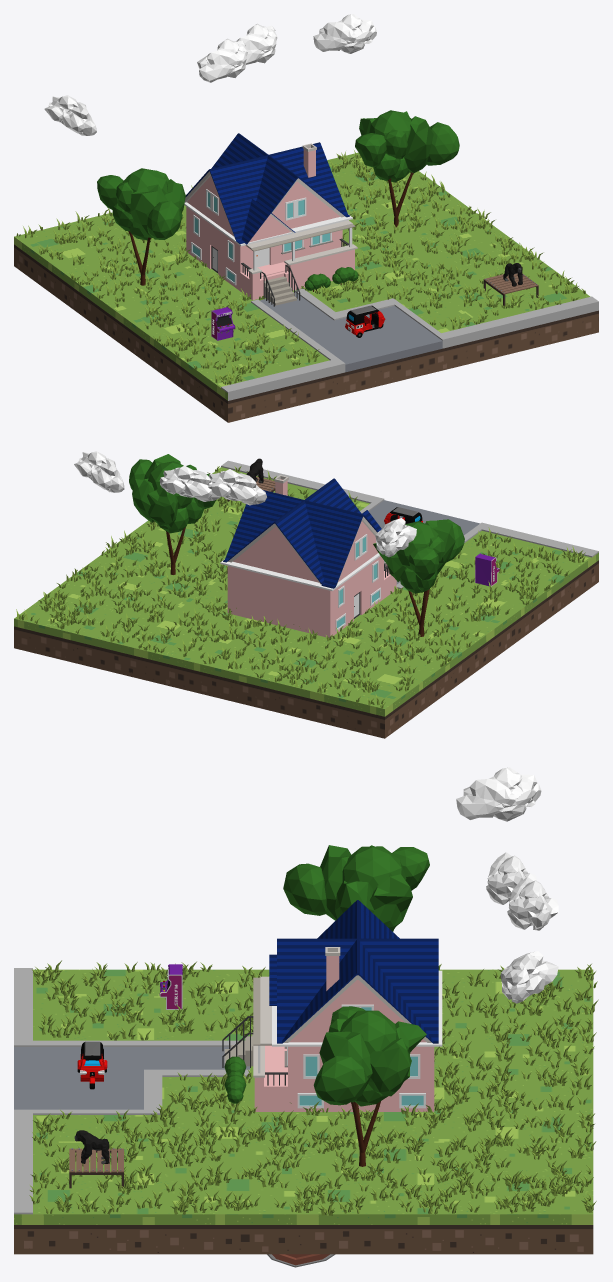
The picture shows the model from 3 angles, top to bottom: view 1: azimuth 30°, elevation 25°; view 2: azimuth 150°, elevation 25°; view 3: azimuth 270°, elevation 25°; orthographic projection. The views are drawn at different scales.
Visible parts, largest first — view 1: Cube.006, Cube.313, Circle.012_Grass_0.192, Cube.007, tree, tree.001, VEHICLES_TUC_TUC, Cube.009, OBJRANDOM_ARCADE; view 2: Cube.006, Cube.313, Circle.012_Grass_0.192, Cube.007, tree.001, tree, OBJRANDOM_ARCADE, VEHICLES_TUC_TUC; view 3: Cube.006, Circle.012_Grass_0.192, Cube.313, tree, Cube.007, tree.001, Cube.009, VEHICLES_TUC_TUC, OBJRANDOM_ARCADE, ANIMAL_GORILA.
Boxes of the visible parts, x1=… form: Cube.006: x1=14, y1=152, x2=598, y2=422; Cube.313: x1=184, y1=133, x2=357, y2=306; Circle.012_Grass_0.192: x1=16, y1=150, x2=585, y2=384; Cube.007: x1=44, y1=14, x2=376, y2=135; tree: x1=355, y1=110, x2=459, y2=227; tree.001: x1=97, y1=168, x2=185, y2=285; VEHICLES_TUC_TUC: x1=345, y1=305, x2=385, y2=337; Cube.009: x1=483, y1=273, x2=538, y2=305; OBJRANDOM_ARCADE: x1=211, y1=307, x2=235, y2=340; Cube.006: x1=14, y1=460, x2=598, y2=738; Cube.313: x1=220, y1=475, x2=396, y2=637; Circle.012_Grass_0.192: x1=16, y1=466, x2=585, y2=708; Cube.007: x1=74, y1=451, x2=416, y2=557; tree.001: x1=373, y1=519, x2=464, y2=636; tree: x1=129, y1=454, x2=215, y2=574; OBJRANDOM_ARCADE: x1=475, y1=553, x2=499, y2=586; VEHICLES_TUC_TUC: x1=384, y1=507, x2=422, y2=524; Cube.006: x1=14, y1=968, x2=593, y2=1254; Circle.012_Grass_0.192: x1=29, y1=960, x2=598, y2=1215; Cube.313: x1=222, y1=900, x2=442, y2=1111; tree: x1=313, y1=1006, x2=426, y2=1166; Cube.007: x1=456, y1=767, x2=558, y2=1003; tree.001: x1=283, y1=845, x2=429, y2=931; Cube.009: x1=69, y1=1148, x2=123, y2=1188; VEHICLES_TUC_TUC: x1=77, y1=1041, x2=107, y2=1089; OBJRANDOM_ARCADE: x1=159, y1=964, x2=182, y2=1009; ANIMAL_GORILA: x1=74, y1=1130, x2=109, y2=1164.
Size of the model in its own units: 4071 by 2892 by 4040.
46 materials, 3 textured.
